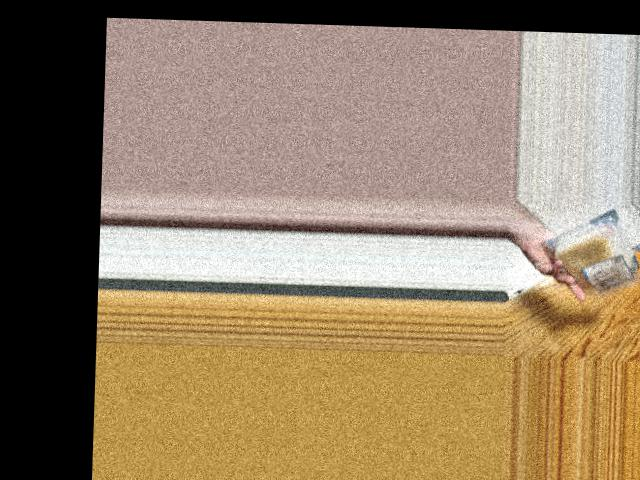cheese: (548, 218, 640, 298)
